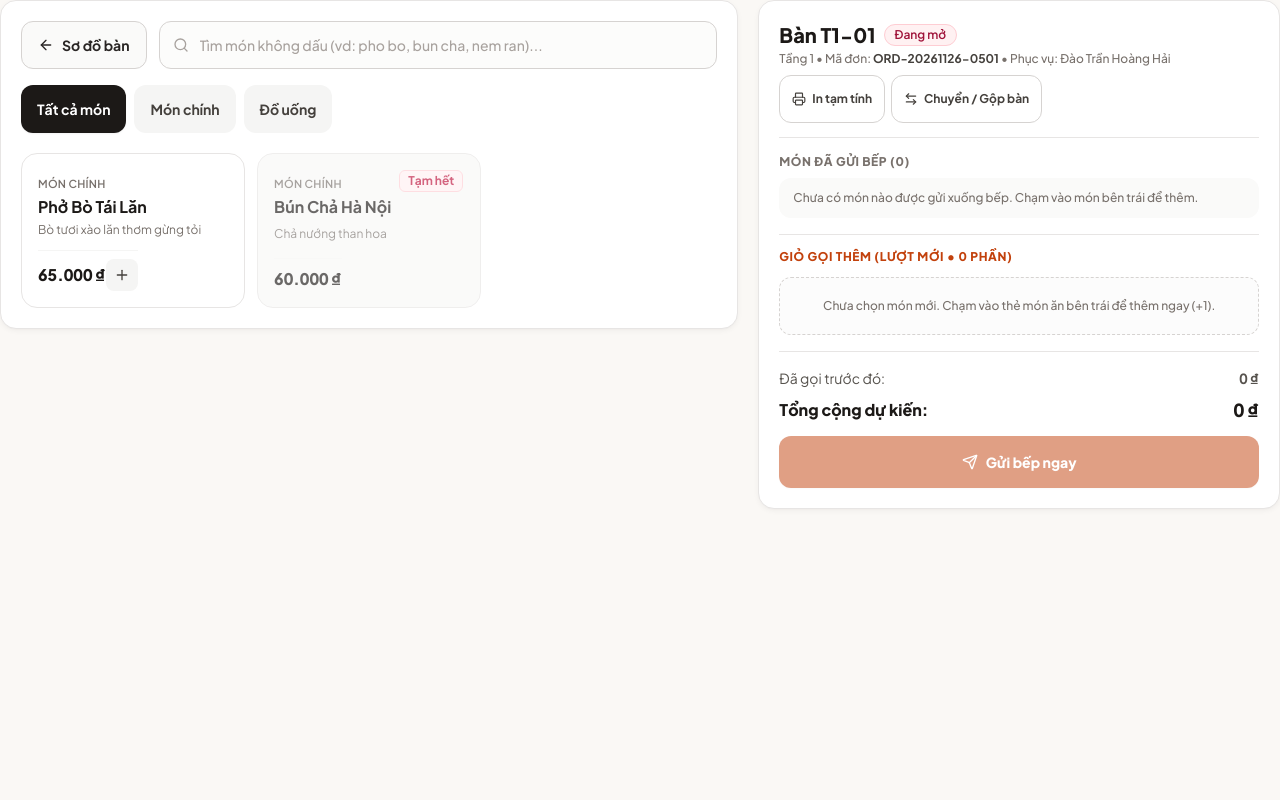
OrderPadPage › supports accent-insensitive search, blocks unavailable items, and submits batch with notes
The image size is (1280, 800).
Expected: the heading "Phở Bò Tái Lăn" is shown, [38,196,147,218]
Expected: the button "Món chính Bún Chả Hà Nội Tạm hết Chả nướng than hoa 60.000 ₫" is disabled, [257,153,481,308]
// Accent-insensitive Vietnamese search: "pho bo" matches "Phở Bò Tái Lăn"
In the search field named "Tìm kiếm món ăn": (438, 45) [158,21,717,69], type "pho bo"
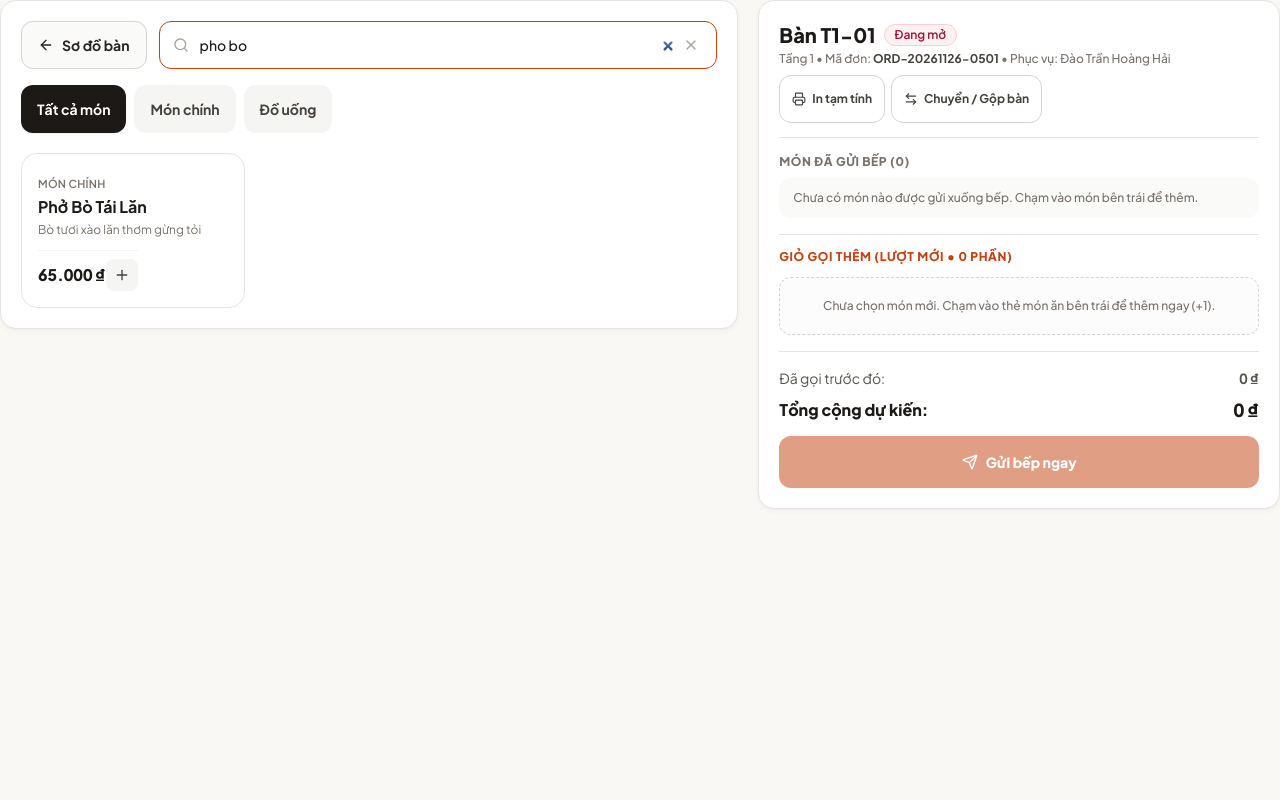
Expected: the heading "Phở Bò Tái Lăn" is shown, [38,196,147,218]
Expected: the button "Bún Chả Hà Nội" is gone
Click the button "Phở Bò Tái Lăn": (133, 230) [21,153,245,308]
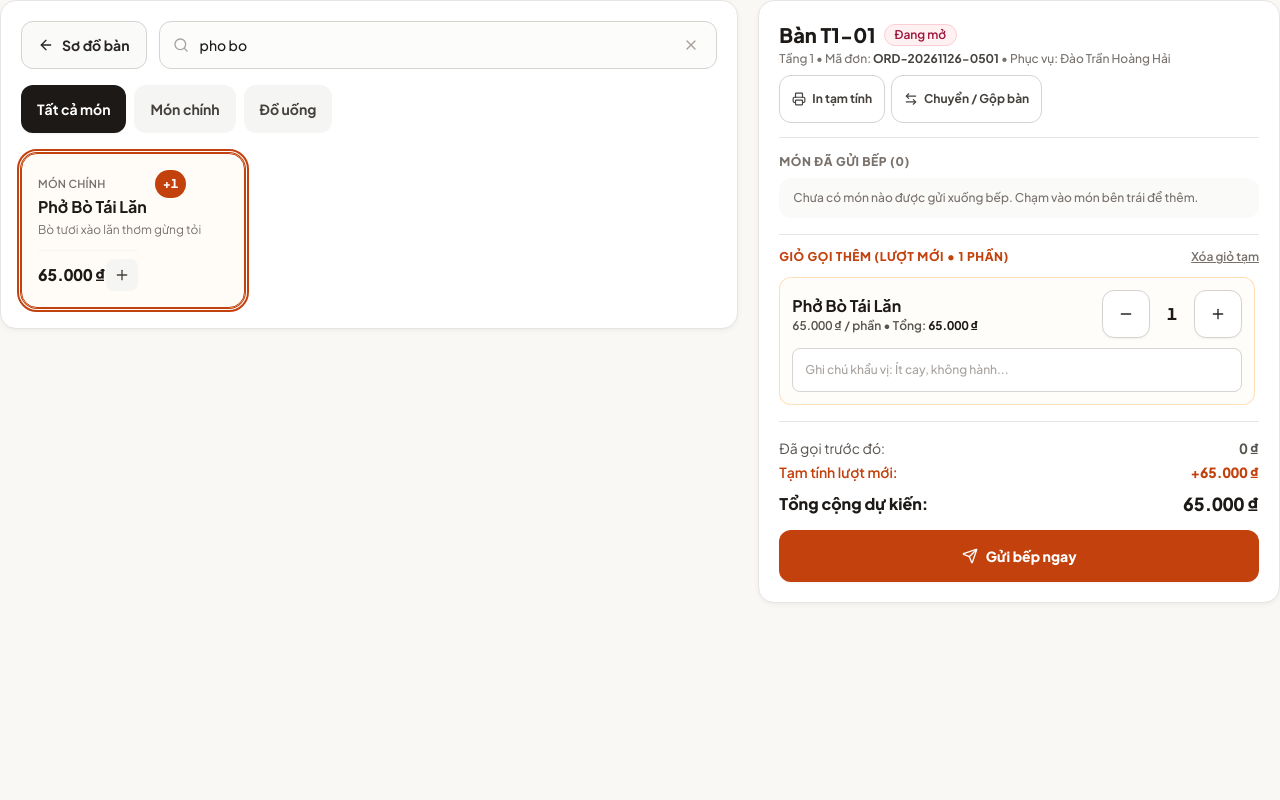
Click the button "Phở Bò Tái Lăn": (133, 230) [21,153,245,308]
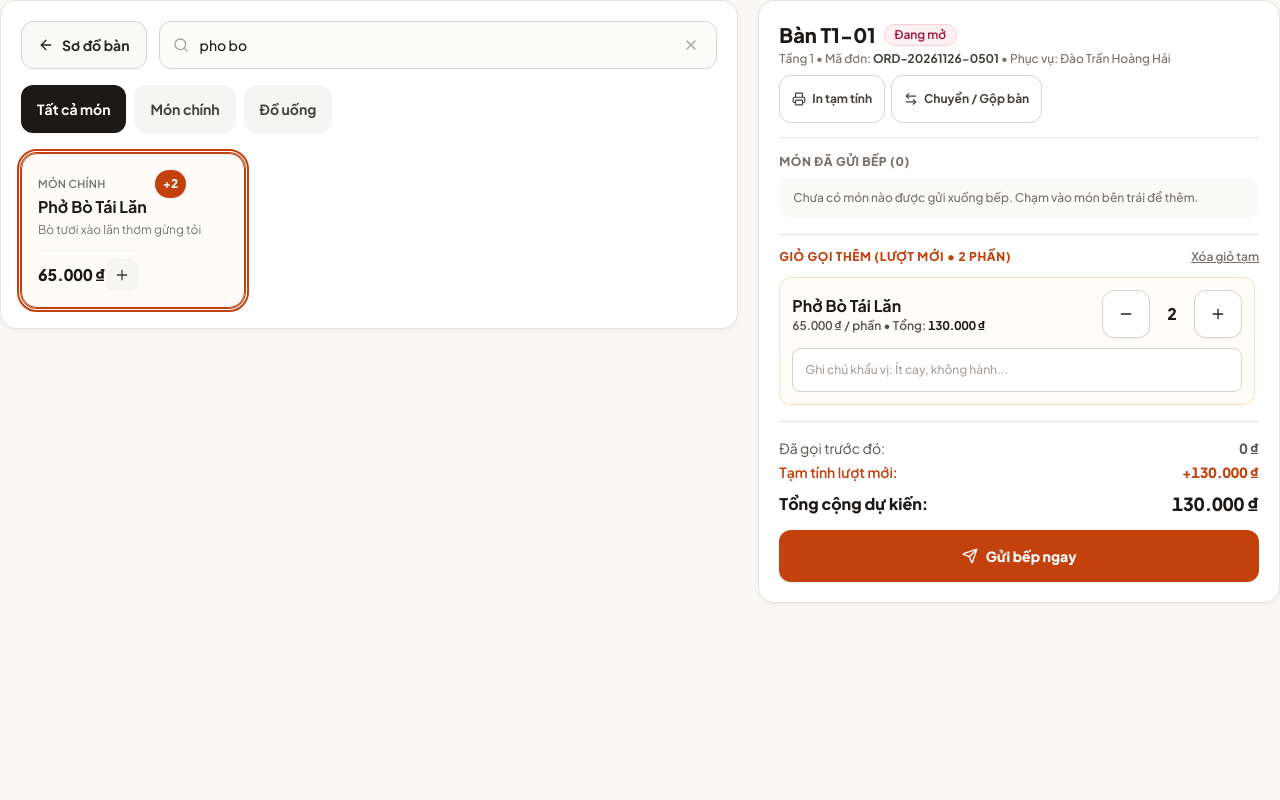
In the field named "Ghi chú cho Phở Bò Tái Lăn": (1017, 370) [792,348,1242,392], type "Ít cay, không hành"
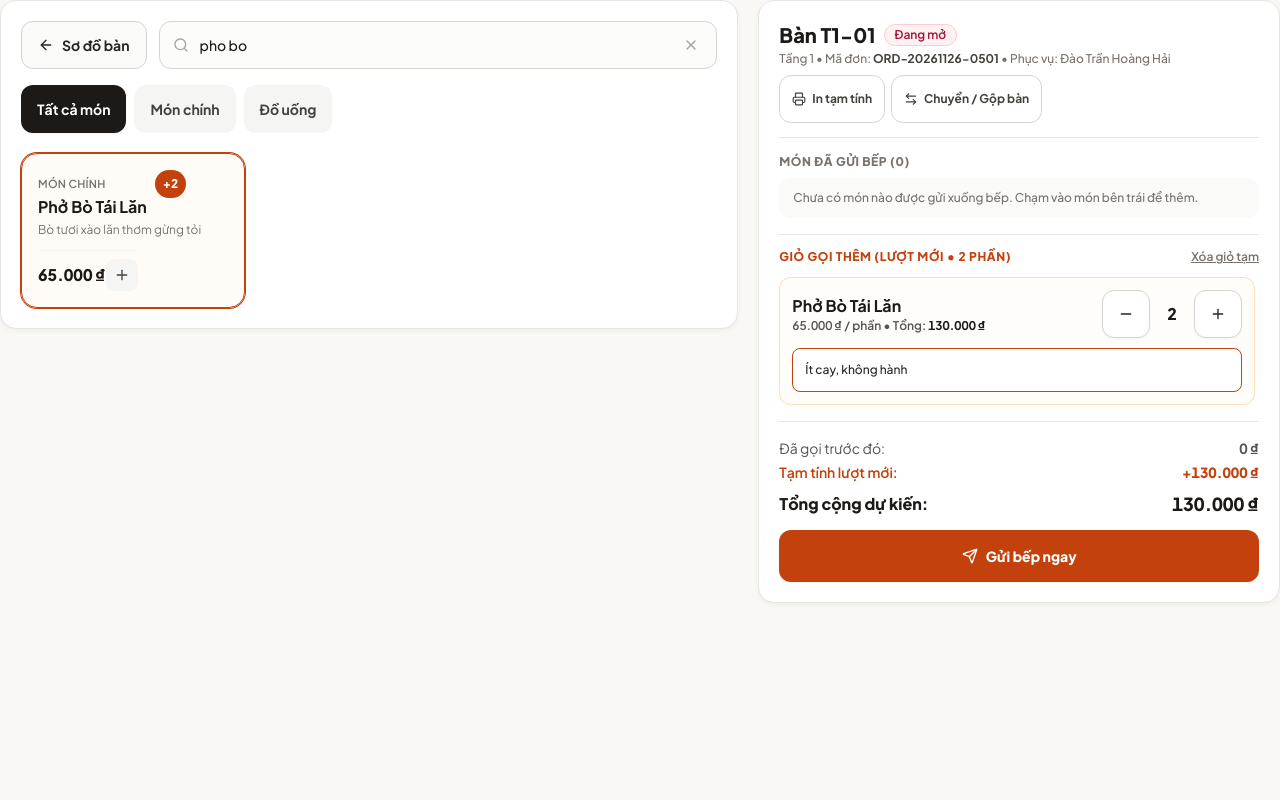
Click the button "Gửi bếp ngay": (1019, 556) [779,530,1259,582]
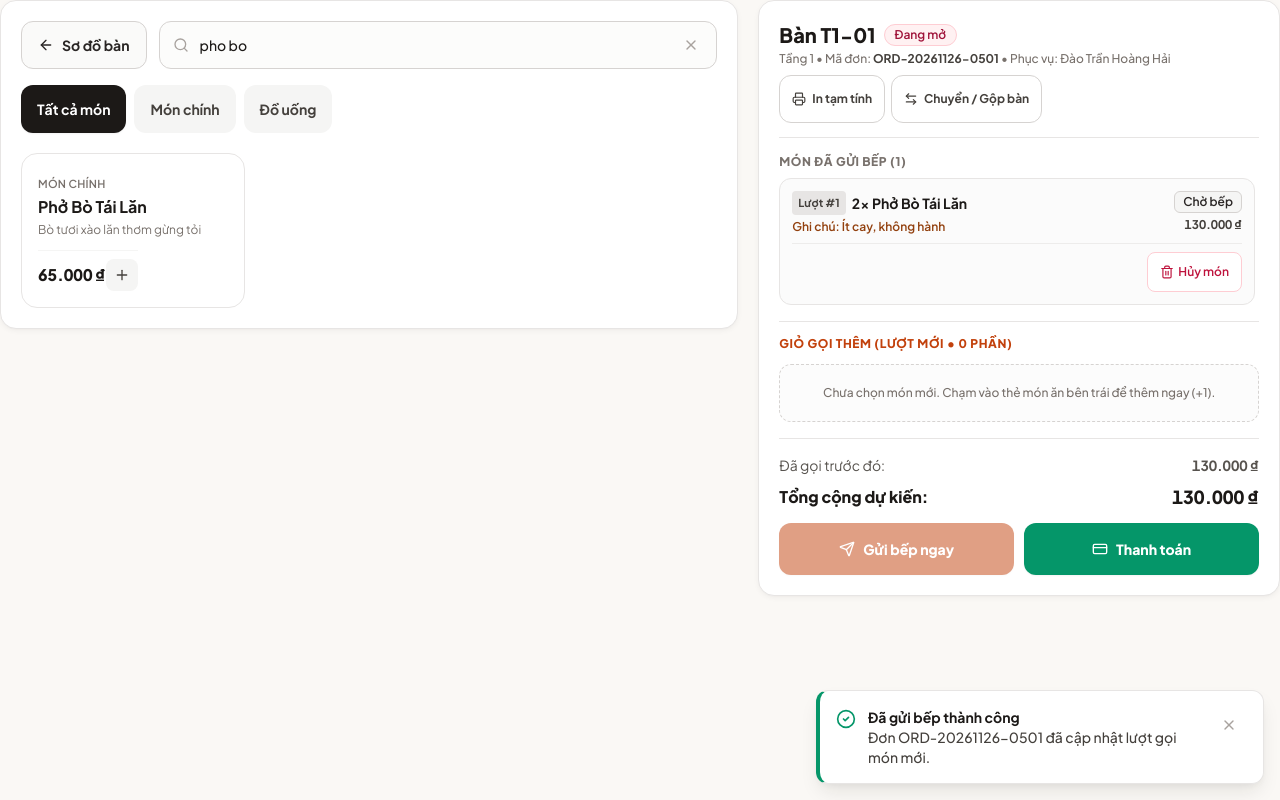
Expected: the text "2× Phở Bò Tái Lăn" is shown, [852,193,967,213]
